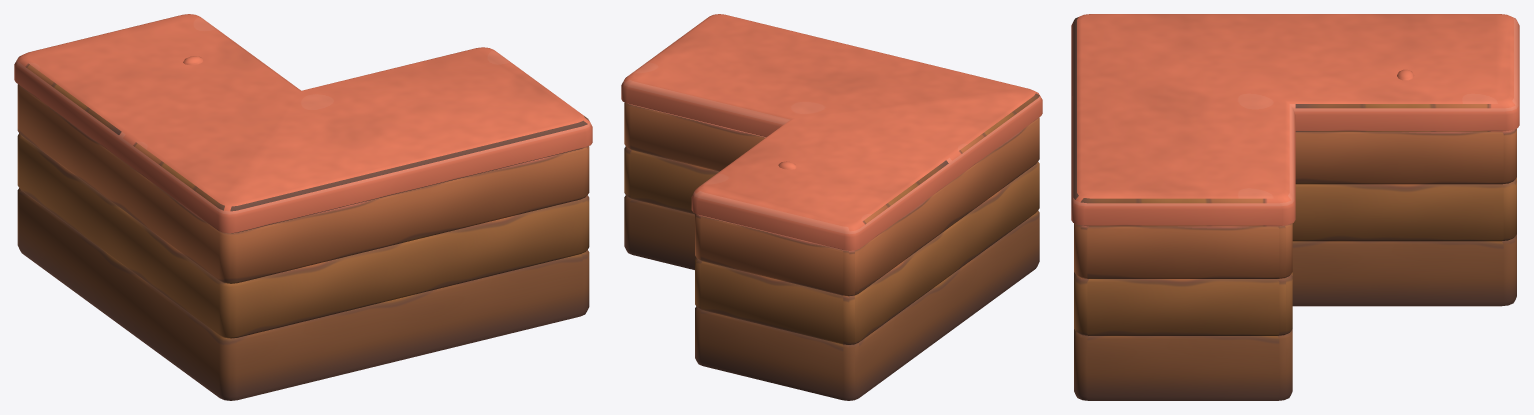
File: cover_L.glb
The picture shows the model from 3 angles, left to right: view 1: azimuth 30°, elevation 25°; view 2: azimuth 150°, elevation 25°; view 3: azimuth 270°, elevation 25°; orthographic projection. The views are drawn at different scales.
Visible parts, largest first — view 1: cover_L; view 2: cover_L; view 3: cover_L.
Boxes of the visible parts, x1,y1,x2,y2 form: cover_L: (14, 14, 592, 400); cover_L: (621, 14, 1042, 400); cover_L: (1071, 14, 1519, 400).
Size of the model in its own units: 2 by 1.02 by 2.
2 materials, 2 textured.
